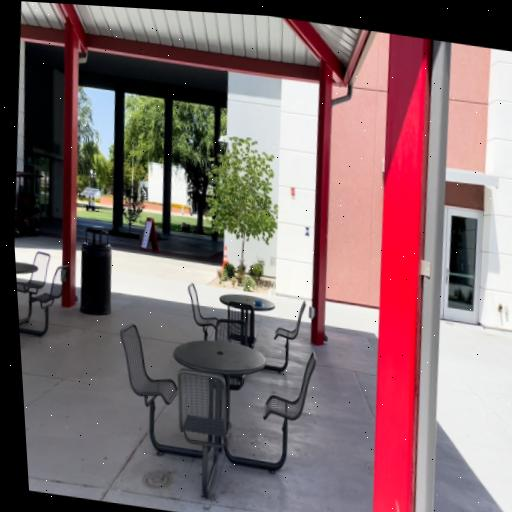target9: (304, 227, 311, 236)
